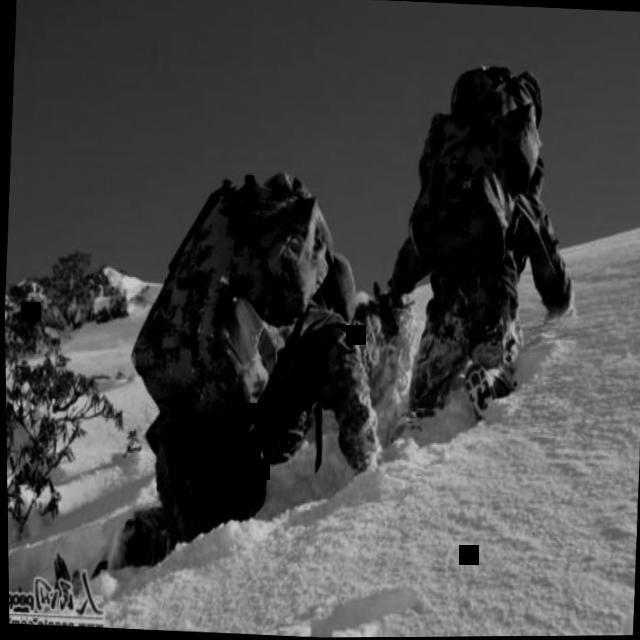Fall-Detected: (367, 51, 600, 447)
